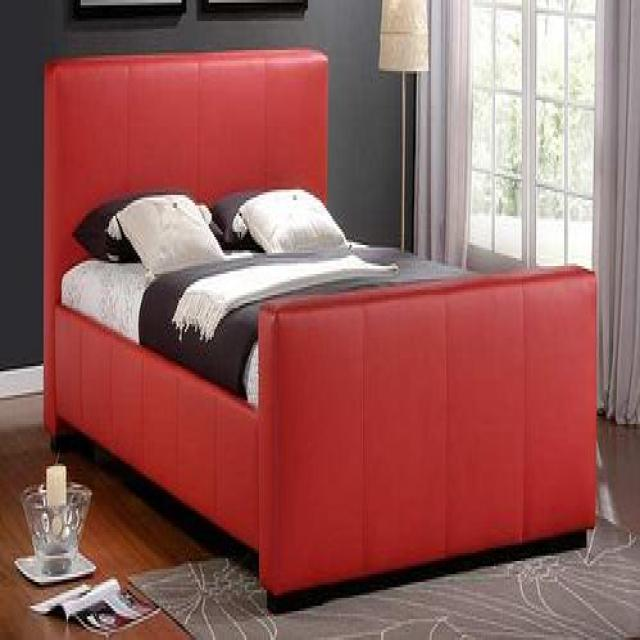bed: (41, 41, 597, 606)
